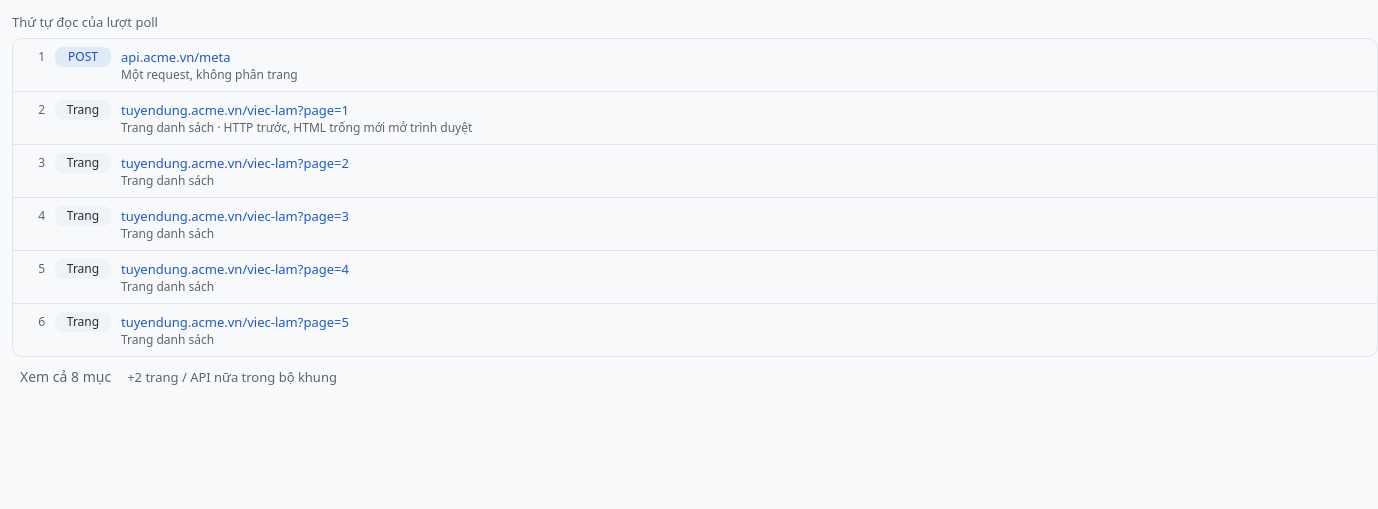
Test case: thứ tự đọc › API trước rồi tới trang, đánh số; dài thì thu gọn và mở được
Expected: the number of list items is 6, [13,39,1377,92]; [13,92,1377,145]; [13,145,1377,198]; [13,198,1377,251]; [13,251,1377,304]; [38,312,349,348]
Expected: the list item "1 POST api.acme.vn/meta Một request, không phân trang" is shown, [13,39,1377,92]
Click the button "Xem cả 8 mục". click: (66, 377)
box: [12,363,119,391]
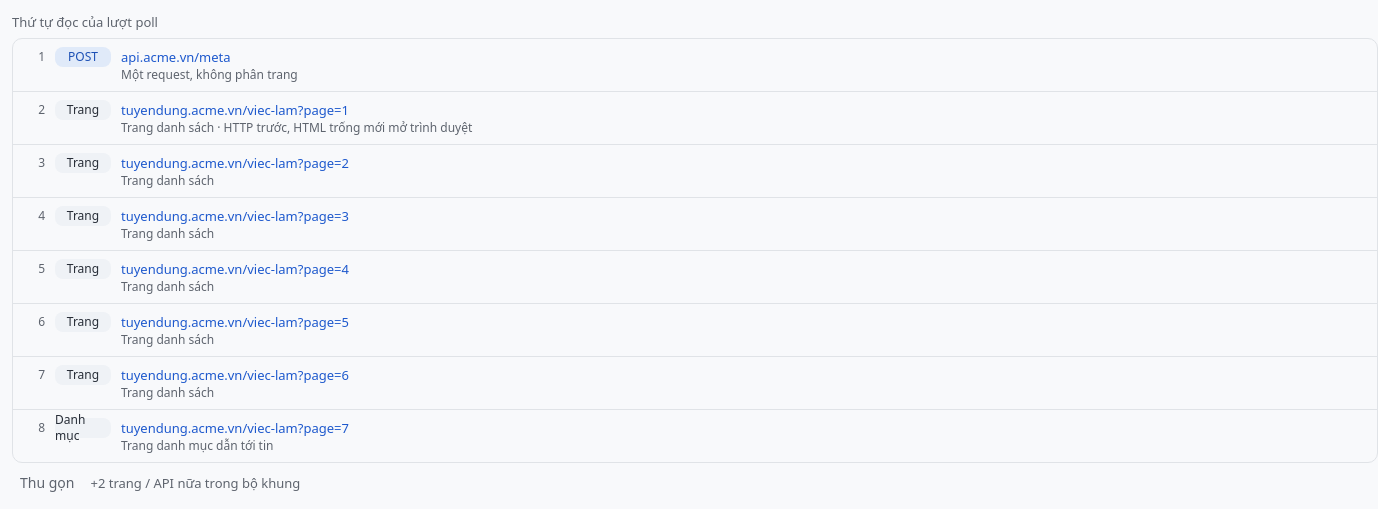
Result: the number of list items is 8
Result: the list item that starts with "Danh mục" is shown at [55,411,85,444]
